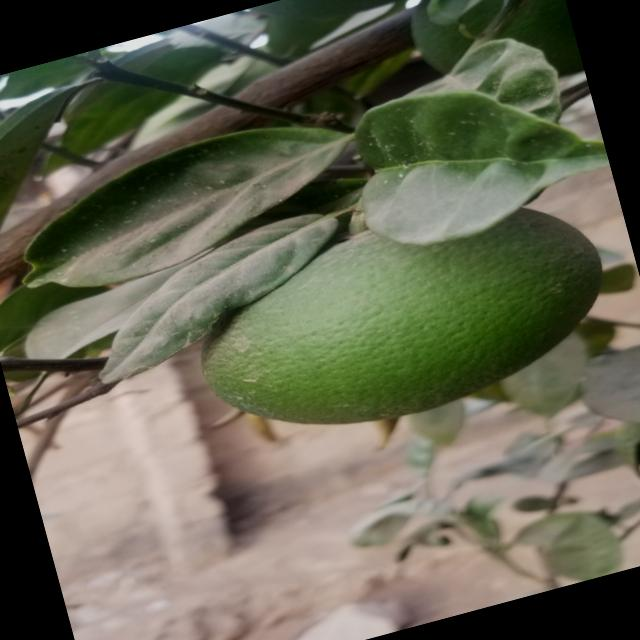Unripe: (187, 188, 618, 455)
